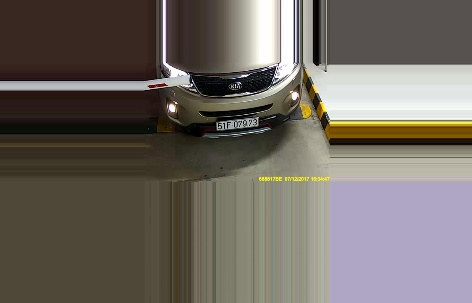plate: (215, 117, 259, 131)
